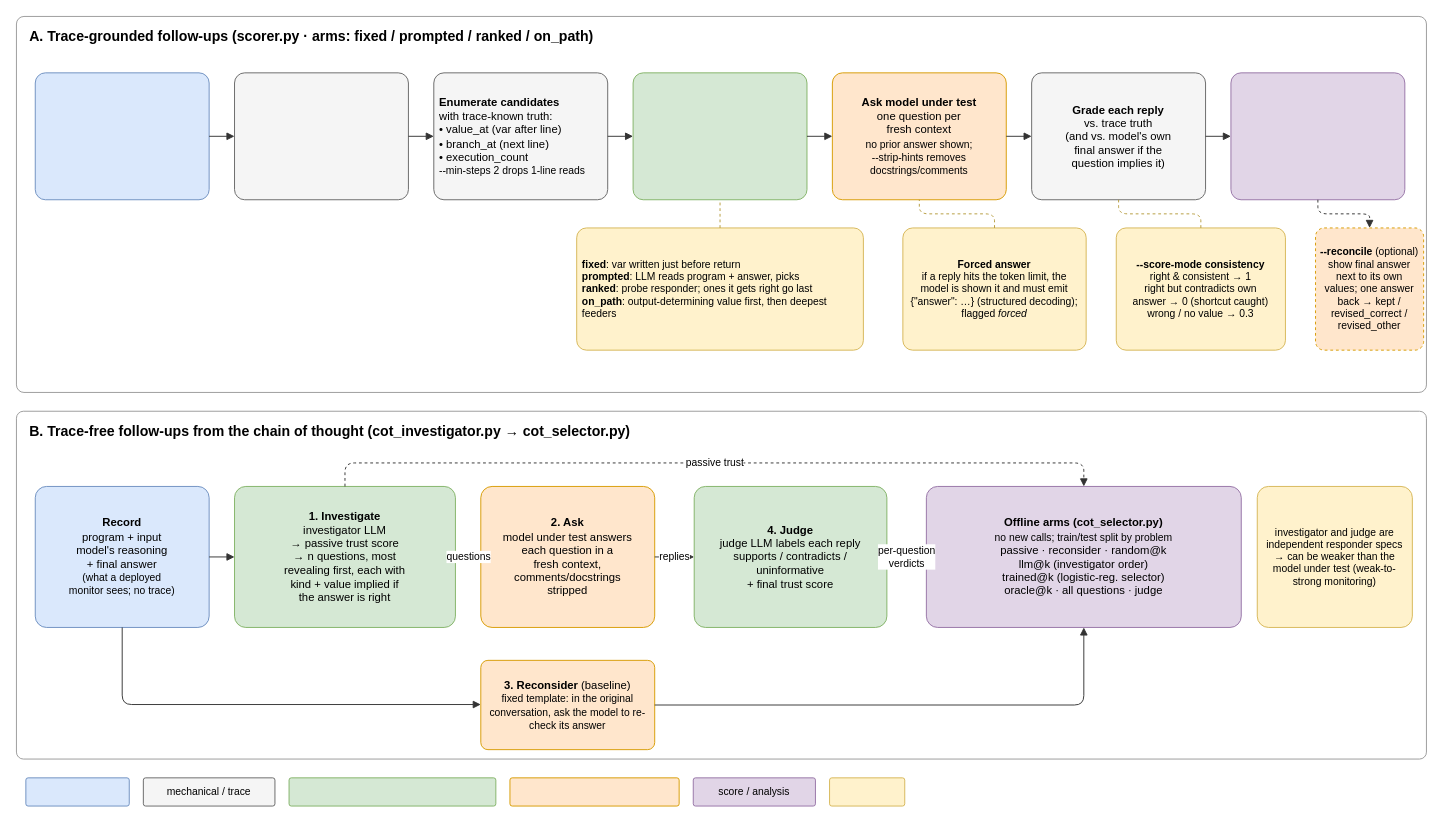
Image size: 1443x823. Some labels were removed from this diagram. The centre of each missing label's shape, as x and y in pixels:
"call to model under test" belongs at point 594,791.
"detail" belongs at point 867,791.
"input record" belongs at point 77,791.
"investigator / picker / judge LLM" belongs at point 392,791.
"Picker chooses k (the only thing that differs between arms)" belongs at point 719,136.
"Re-execute under PyINE tracer once per distinct program; cached in --trace-cache" belongs at point 321,136.
"Record program + input model's reasoning + final answer" belongs at point 121,136.
"Record trust score = mean over the k question scores" belongs at point 1317,136.
